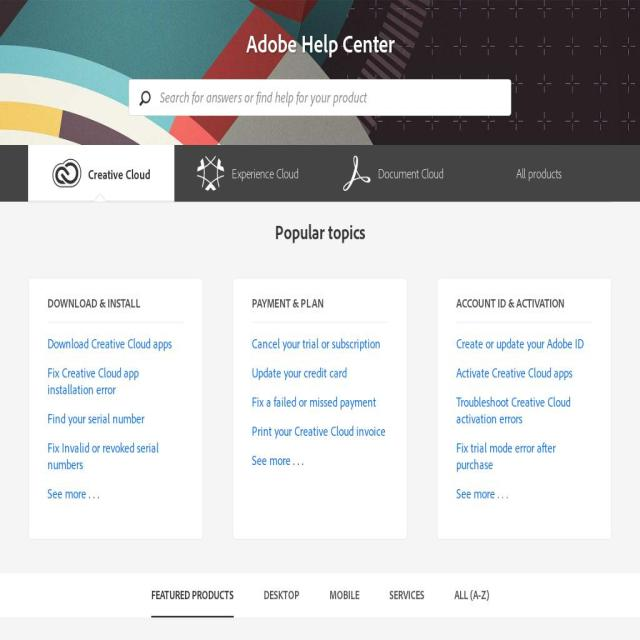button: (150, 574, 234, 614), (263, 588, 299, 602), (389, 588, 424, 602), (454, 588, 489, 602), (329, 588, 359, 602)
field: (130, 80, 510, 113), (130, 80, 160, 115)
heading: (28, 25, 612, 63), (28, 218, 612, 244), (231, 165, 299, 182), (378, 165, 444, 182), (88, 165, 150, 183), (516, 165, 562, 182)
image: (0, 0, 640, 202), (51, 153, 82, 194), (195, 154, 226, 194), (342, 154, 372, 194)
link: (456, 393, 570, 427), (48, 439, 158, 473), (456, 439, 556, 473), (48, 364, 138, 398), (251, 335, 381, 352), (456, 335, 584, 352), (251, 423, 386, 439), (47, 335, 172, 352), (252, 393, 376, 410), (456, 364, 572, 381), (48, 410, 144, 427), (251, 364, 347, 381), (456, 485, 508, 502), (48, 485, 86, 502), (251, 452, 291, 468)
text: (251, 295, 389, 323), (48, 295, 184, 323), (456, 295, 592, 323), (86, 485, 102, 502), (290, 452, 306, 468)
